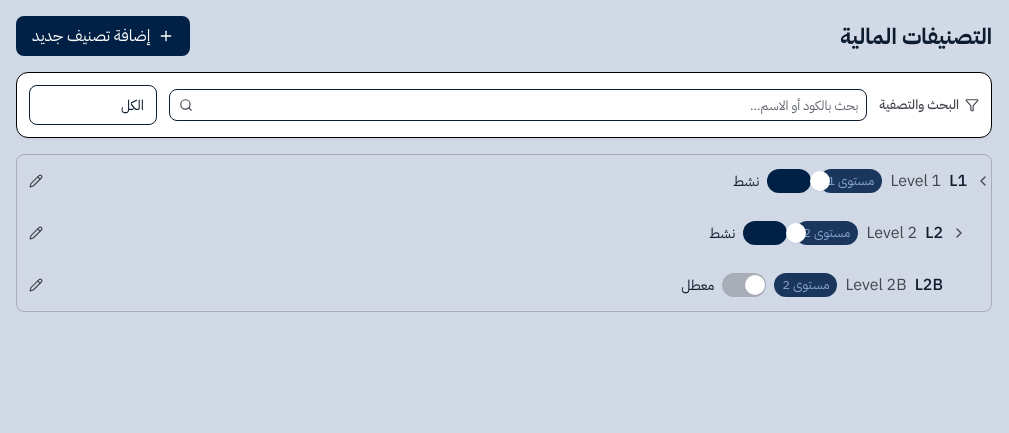
Test: T035: Search auto-expands ancestors, non-matching collapsed › search matches deep node and auto-expands ancestors
This screenshot has width=1009, height=433.
Type "L5" into the search field with placeholder "بحث بالكود أو الاسم...". click: [518, 105]
box: [169,89,867,121]
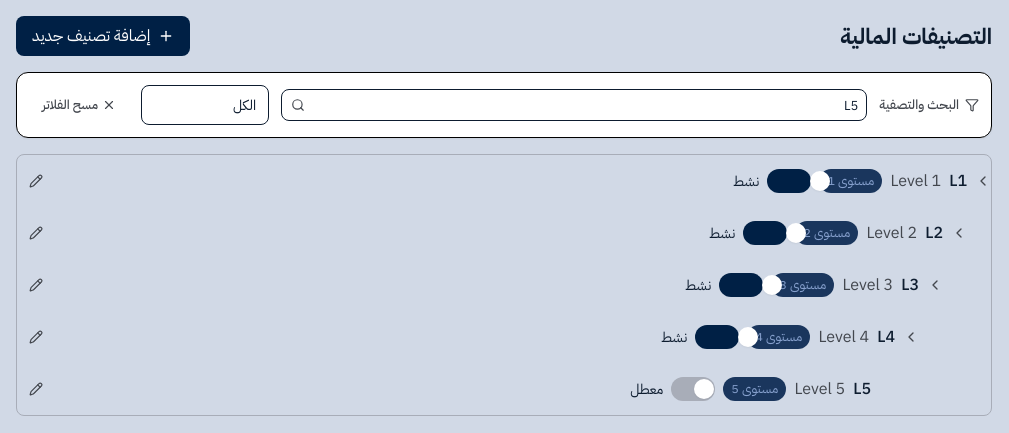
Check: the text "L1" is shown, box [949,169,967,193]
Check: the text "L5" is shown, box [853,377,871,401]
Check: the text "Level 5" is shown, box [794,377,845,401]
